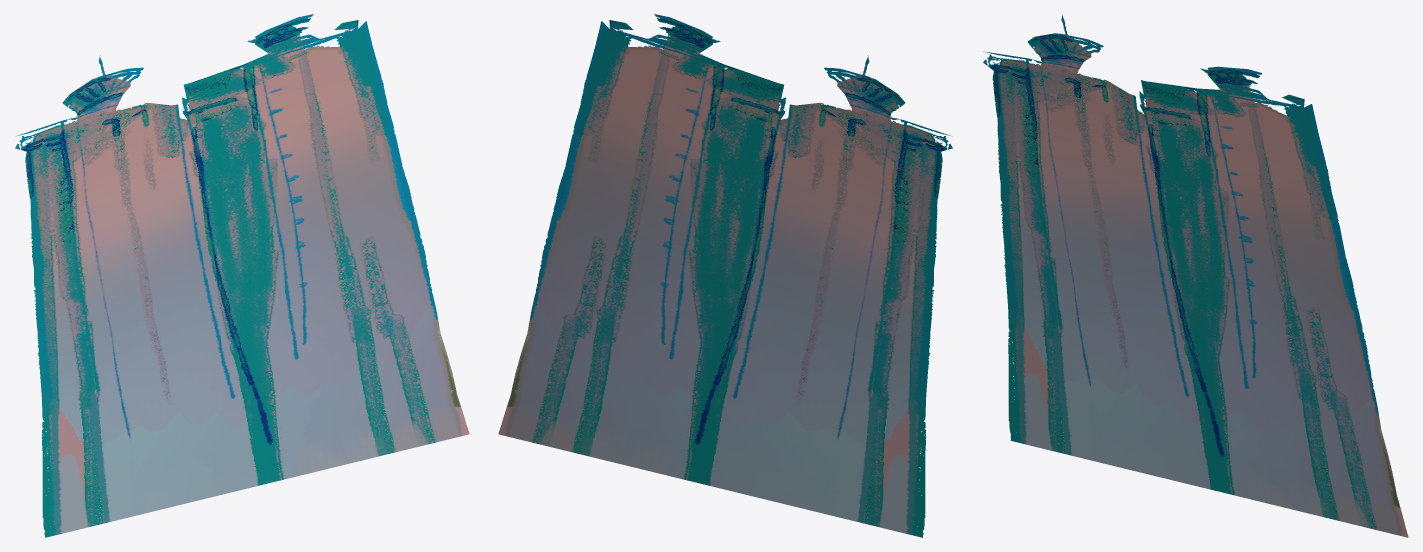
3 views of the same model, side by side, from view 1: azimuth 30°, elevation 25°; view 2: azimuth 150°, elevation 25°; view 3: azimuth 330°, elevation 25° (orthographic). The views are drawn at different scales.
Visible parts, largest first — view 1: mask20; view 2: mask20; view 3: mask20.
Part boxes in pixels (x1=…): mask20: x1=15, y1=14, x2=469, y2=537; mask20: x1=498, y1=14, x2=952, y2=537; mask20: x1=983, y1=14, x2=1408, y2=537.
Bounding box in the file's own units: 6.54 × 6.44 × 1.53e-07.
Materials: 1 (1 with a texture image).
